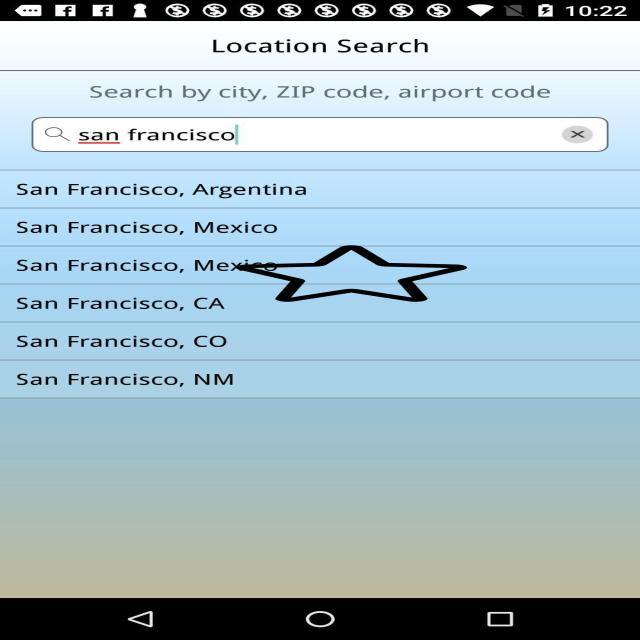forced continuity: (236, 244, 467, 303)
